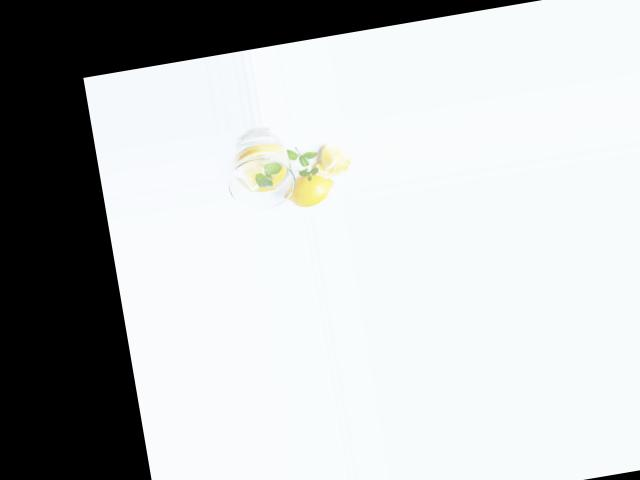lemon: (276, 166, 336, 212)
